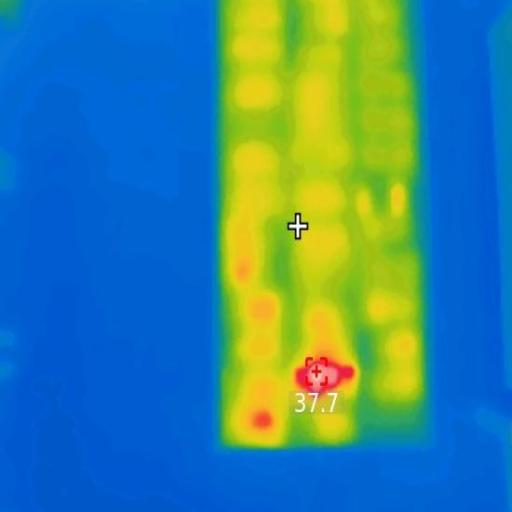hotspot: (302, 362, 342, 387), (253, 408, 273, 434)
